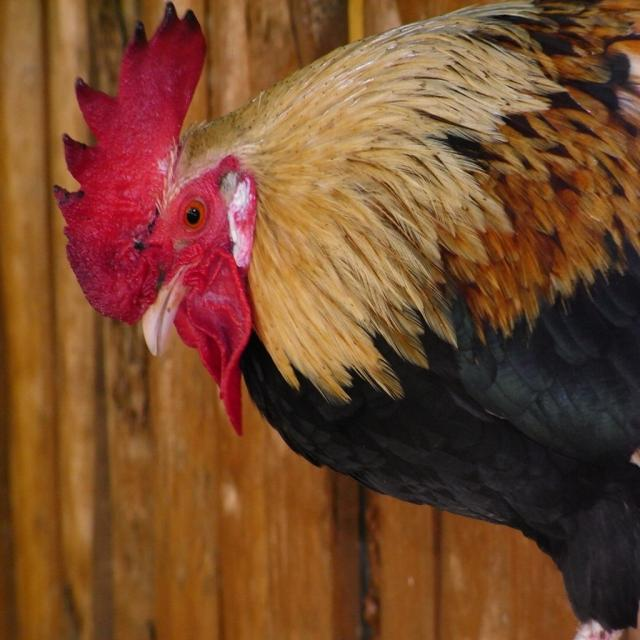Chicken: (53, 1, 639, 632)
